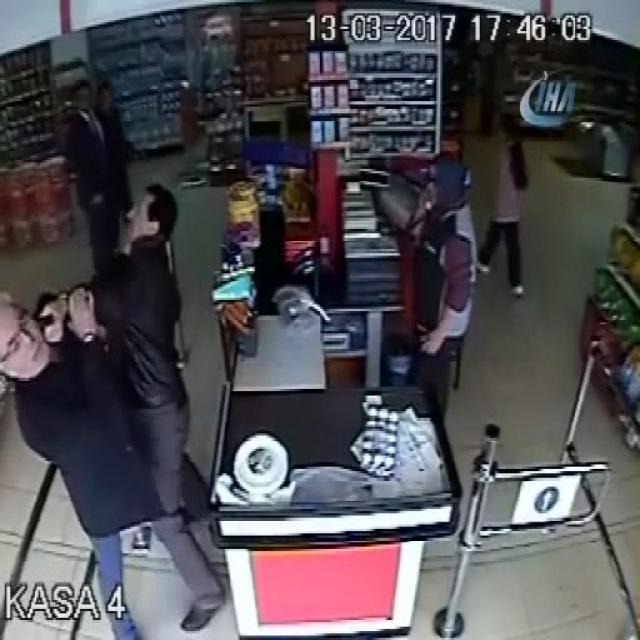fight: (0, 156, 194, 484)
